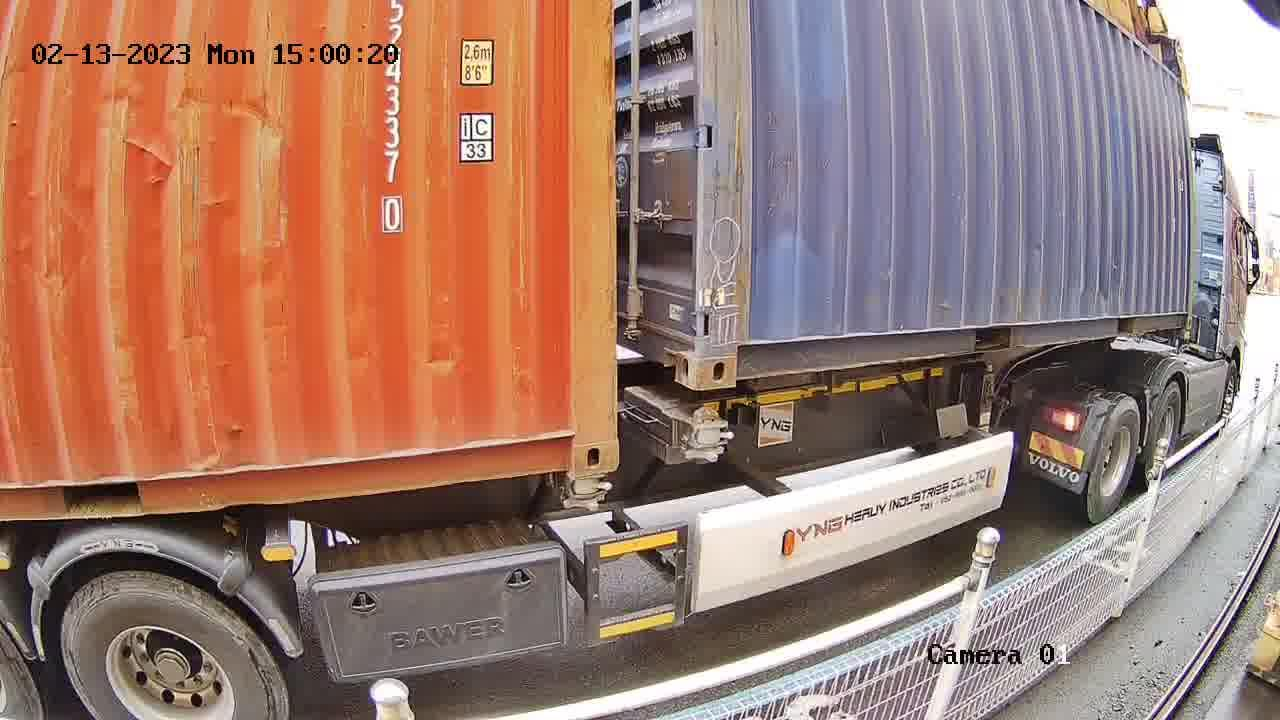Cone: (682, 408, 727, 463), (558, 475, 610, 511)
Hole_L: (694, 319, 774, 391)
Hole_R: (528, 401, 620, 484), (649, 316, 697, 391)
Tire: (62, 573, 288, 715), (1087, 399, 1142, 523), (1148, 384, 1183, 489)
